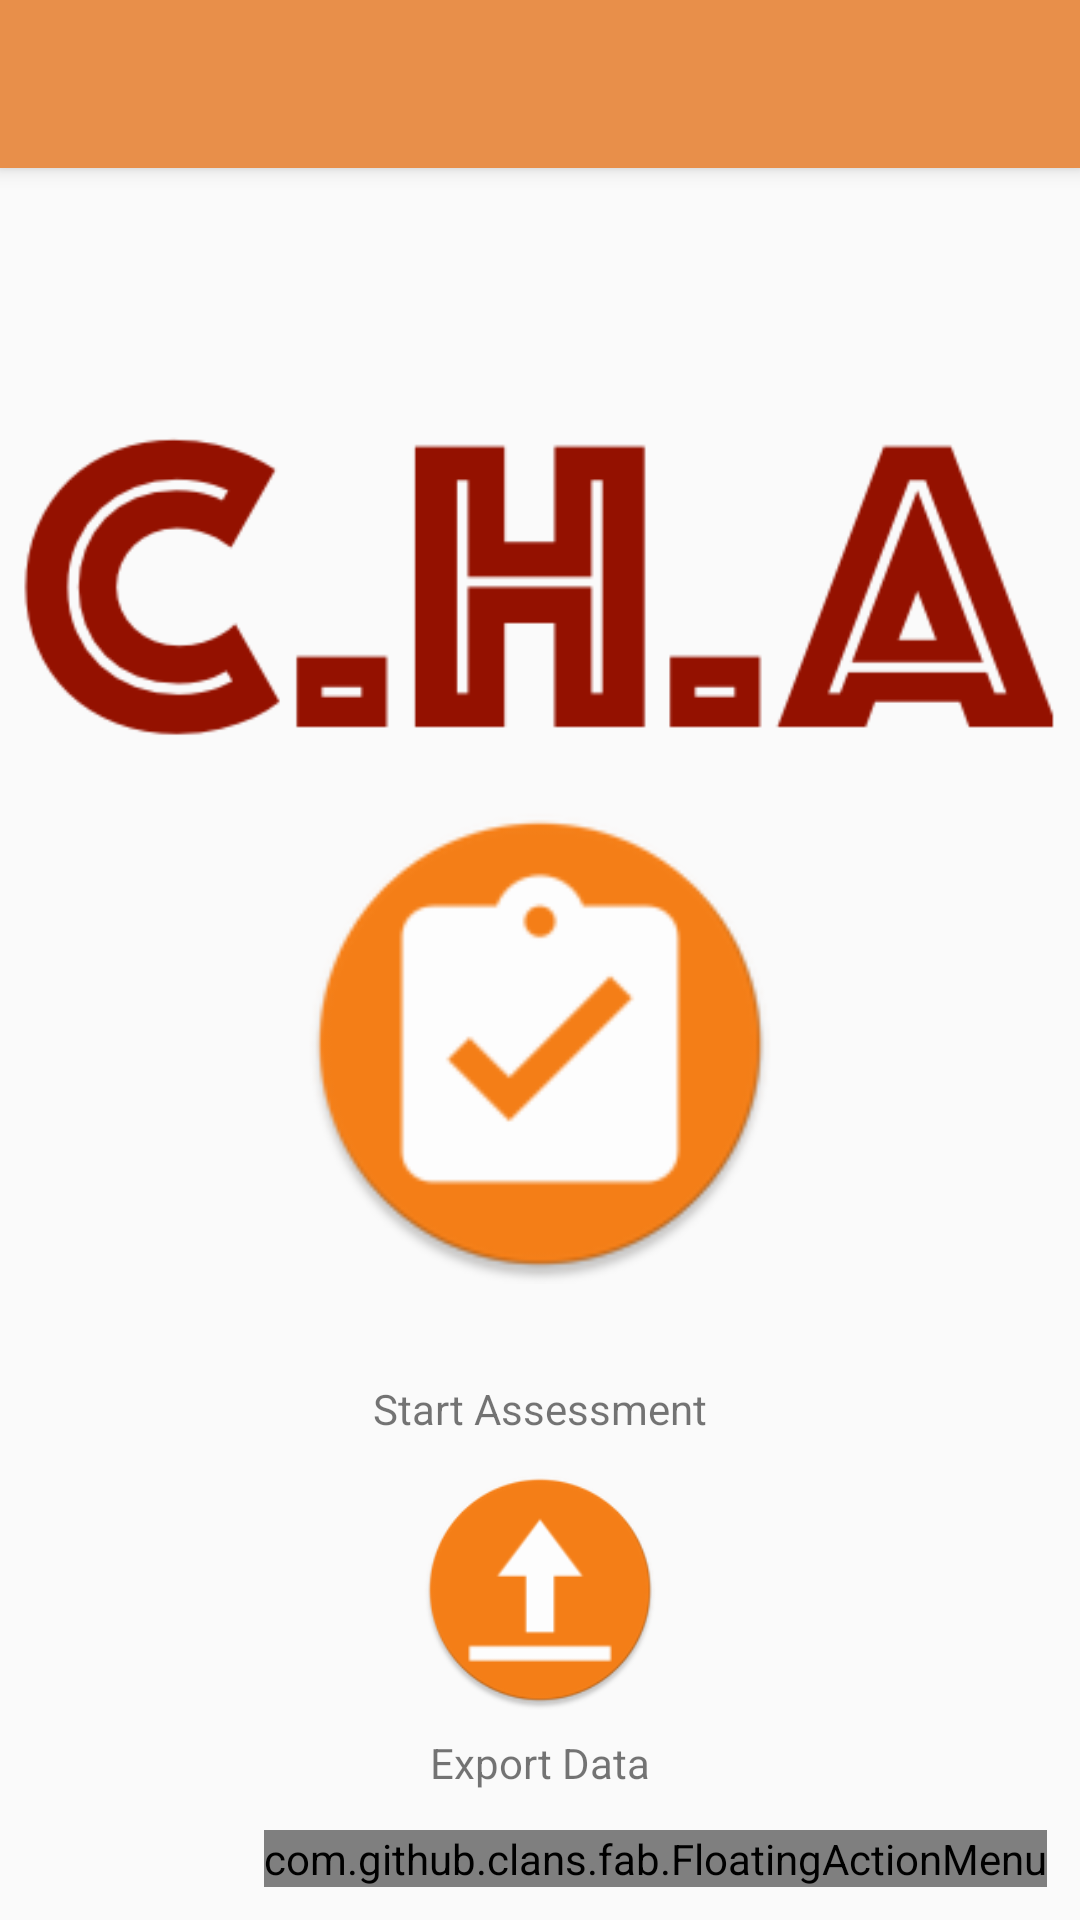

Icons on this 1080*1920 Android screen, each with its box as [x1,y1,x2,y2]:
upload round: [428,1478,652,1706]
